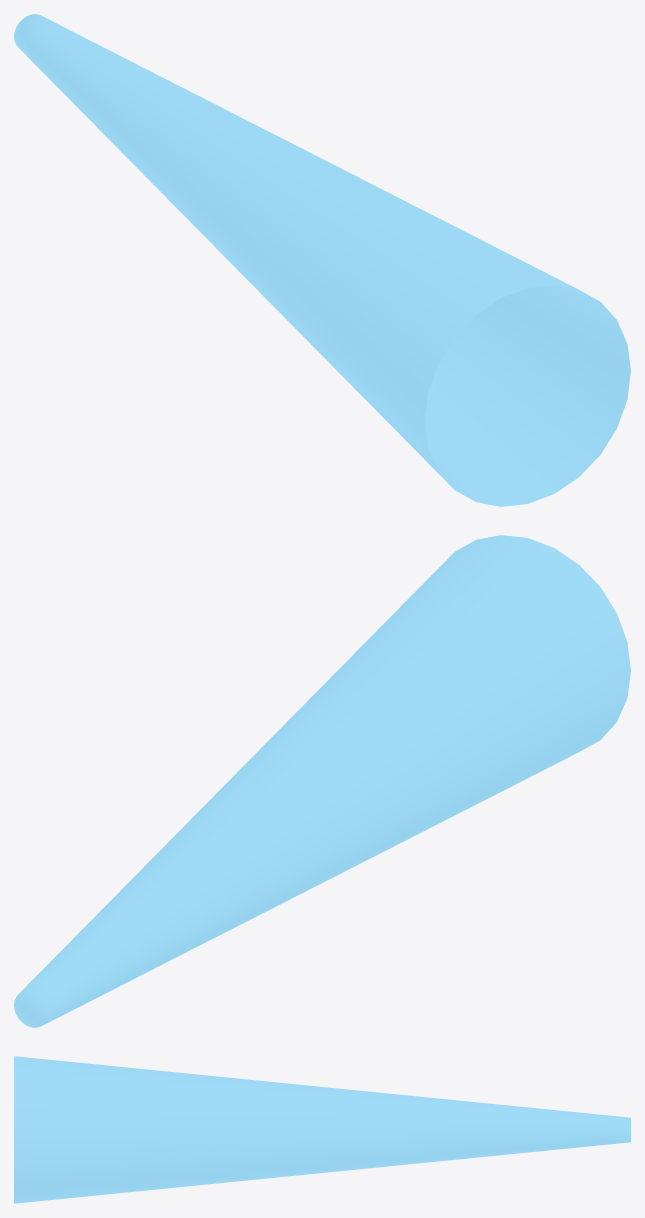
File: ThrustBeam.glb
3 views of the same model, one above another, from view 1: azimuth 30°, elevation 25°; view 2: azimuth 150°, elevation 25°; view 3: azimuth 270°, elevation 25° (orthographic). The views are drawn at different scales.
Parts seen in each view (by area): view 1: ThrustBeam; view 2: ThrustBeam; view 3: ThrustBeam.
Part boxes in pixels (x1,y1,x2,y2): ThrustBeam: [14, 14, 630, 506]; ThrustBeam: [14, 535, 630, 1027]; ThrustBeam: [14, 1056, 630, 1203].
Size of the model in its own units: 0.24 by 0.24 by 1.
